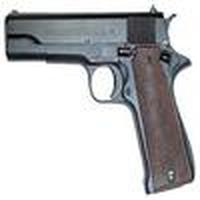gun: (5, 11, 193, 183)
